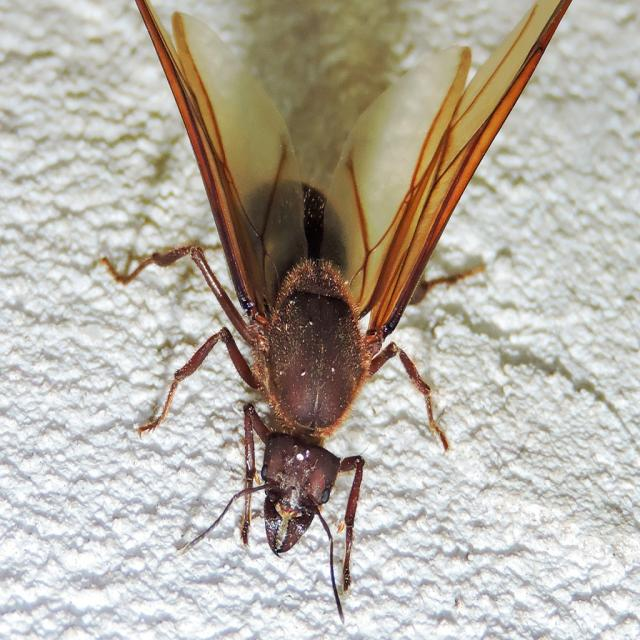Alive-Female-Alate: (95, 0, 572, 598)
